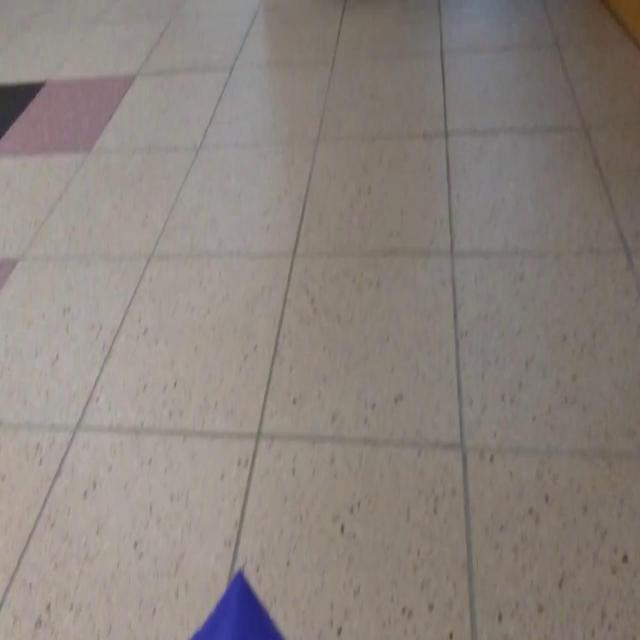frc_cube: (189, 568, 285, 640)
